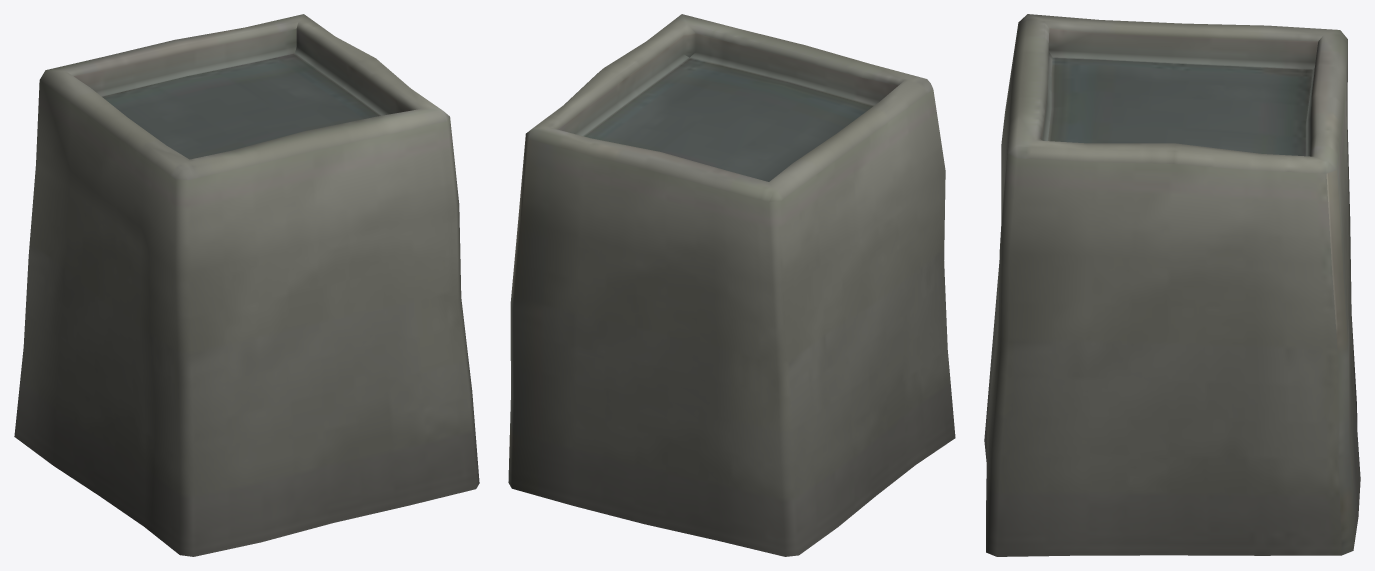
The model's file is MSH_Building_002.glb.
3 renders of one model, left to right at view 1: azimuth 30°, elevation 25°; view 2: azimuth 150°, elevation 25°; view 3: azimuth 270°, elevation 25°, orthographic. The views are drawn at different scales.
Visible parts, largest first — view 1: Base.001; view 2: Base.001; view 3: Base.001.
Boxes of the visible parts, x1,y1,x2,y2 form: Base.001: (14,14,479,556); Base.001: (508,14,955,556); Base.001: (984,14,1360,556).
Size of the model in its own units: 5.12 by 6.06 by 5.2.
1 material, 1 textured.
